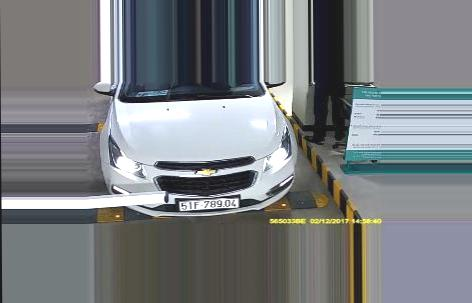License_Plate: (173, 195, 241, 211)
